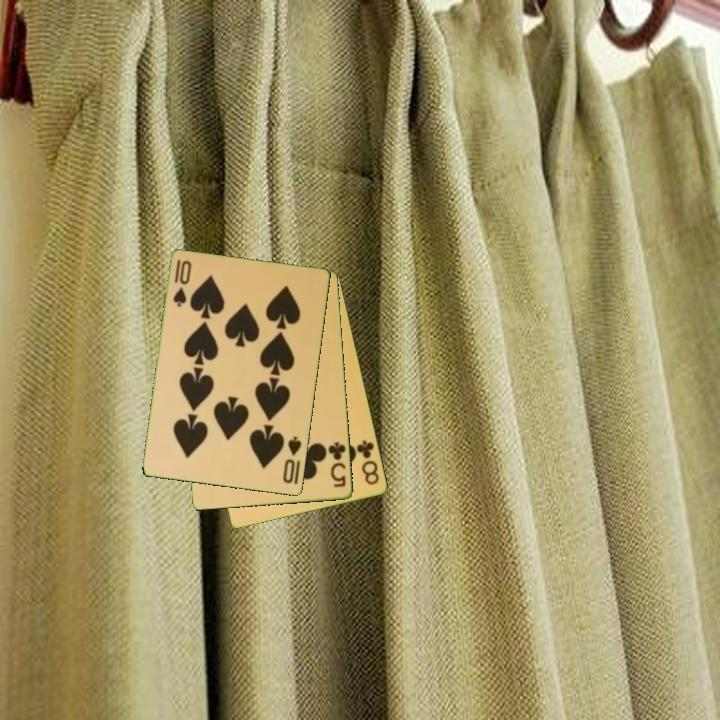10s: (170, 256, 195, 310), (280, 433, 305, 486)
5c: (325, 439, 349, 490)
8c: (353, 437, 382, 488)
